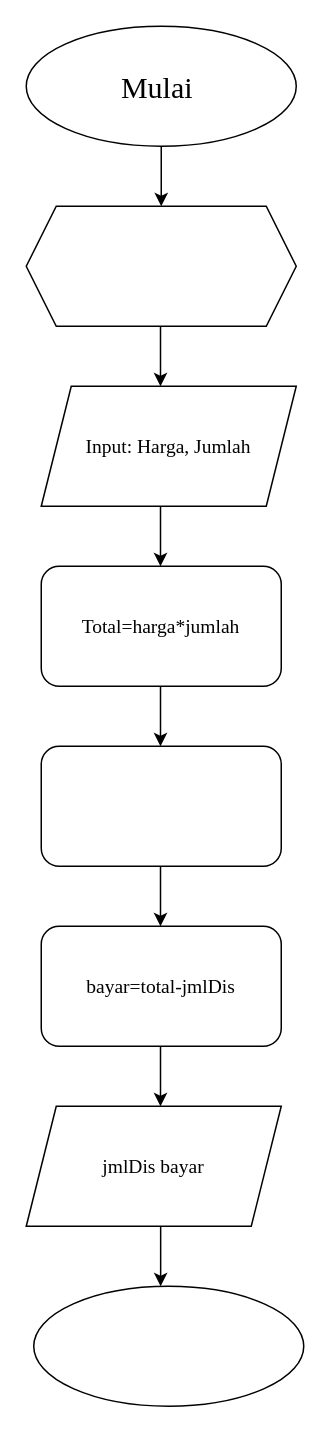
Image size: 330x1433. Some labels were removed from this diagram. The shapes that lost their labels are listed below. From the top down, each one's centre as x and y in pixels, then its label:
At (160,265): "Int: harga, jumlah double: total, bayar, jmlDis String: merkBuku, jmlBuku".
At (160,805): "jmlDis=total*dis".
At (168,1345): "Selesai".
